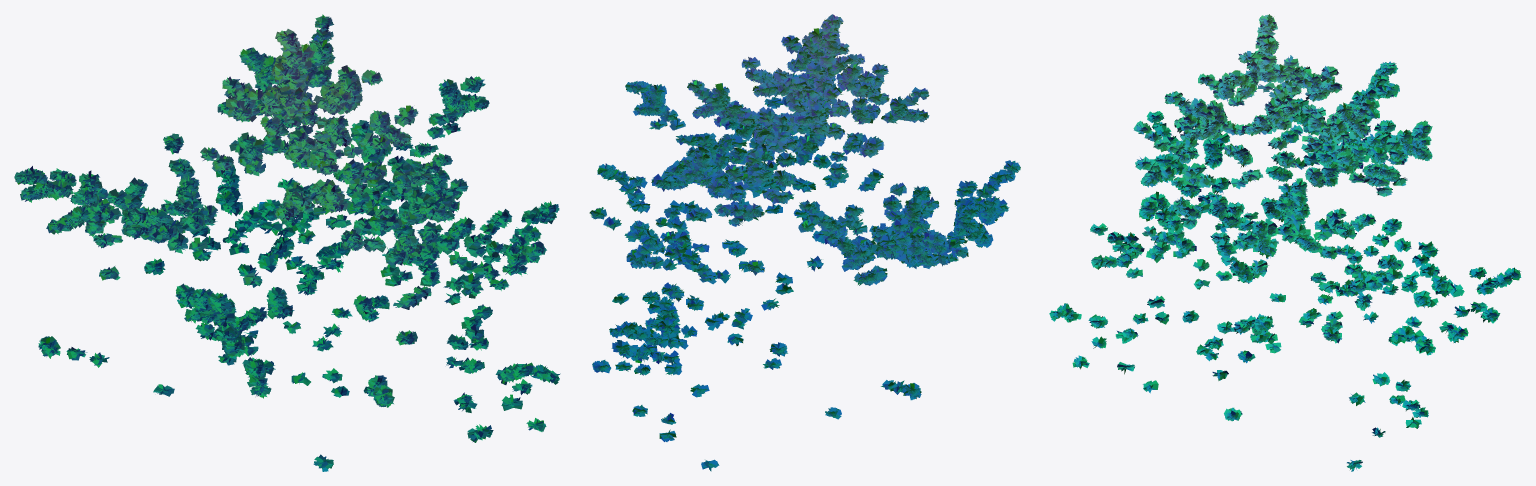
Rendered from canopy03_lod2.fbx.
3 views of the same model, side by side, from view 1: azimuth 30°, elevation 25°; view 2: azimuth 150°, elevation 25°; view 3: azimuth 270°, elevation 25° (orthographic). The views are drawn at different scales.
Parts seen in each view (by area): view 1: Foliage.001; view 2: Foliage.001; view 3: Foliage.001.
Part boxes in pixels (bbox=[...]): Foliage.001: bbox=[14, 14, 560, 471]; Foliage.001: bbox=[589, 14, 1020, 471]; Foliage.001: bbox=[1049, 14, 1521, 471].
Size of the model in its own units: 39012 by 40662 by 39790.
